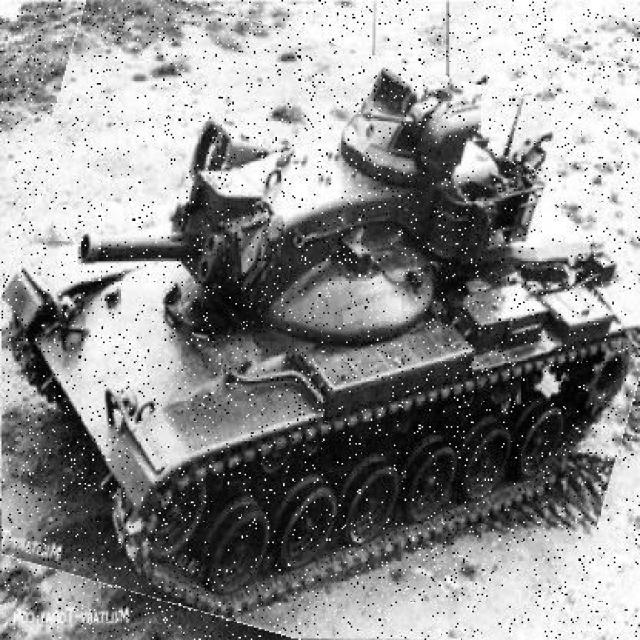Tank: (2, 13, 640, 639)
